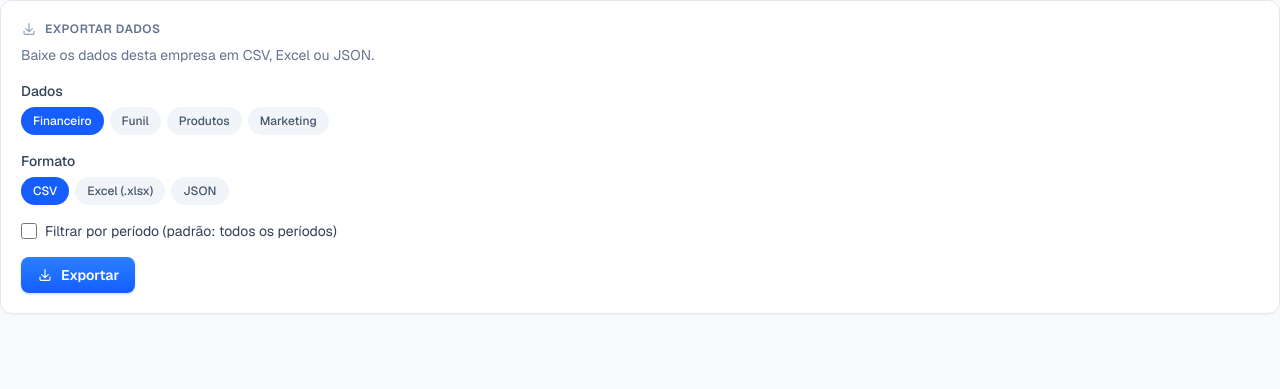
Test: ExportPanel › mostra o erro da API quando a exportação falha
Click the button "Exportar" at point(78, 275), box [21, 257, 135, 293]
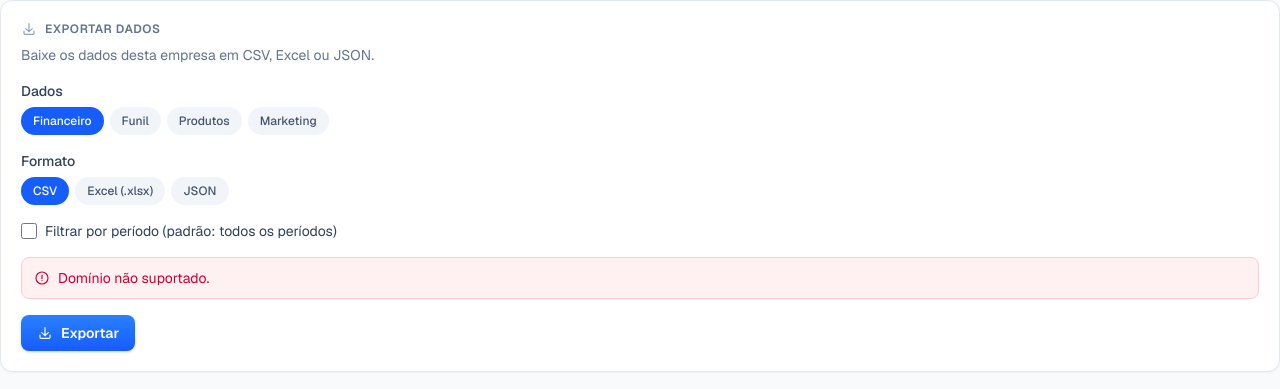
Result: the text "Domínio não suportado." is shown at [58, 268, 209, 288]
